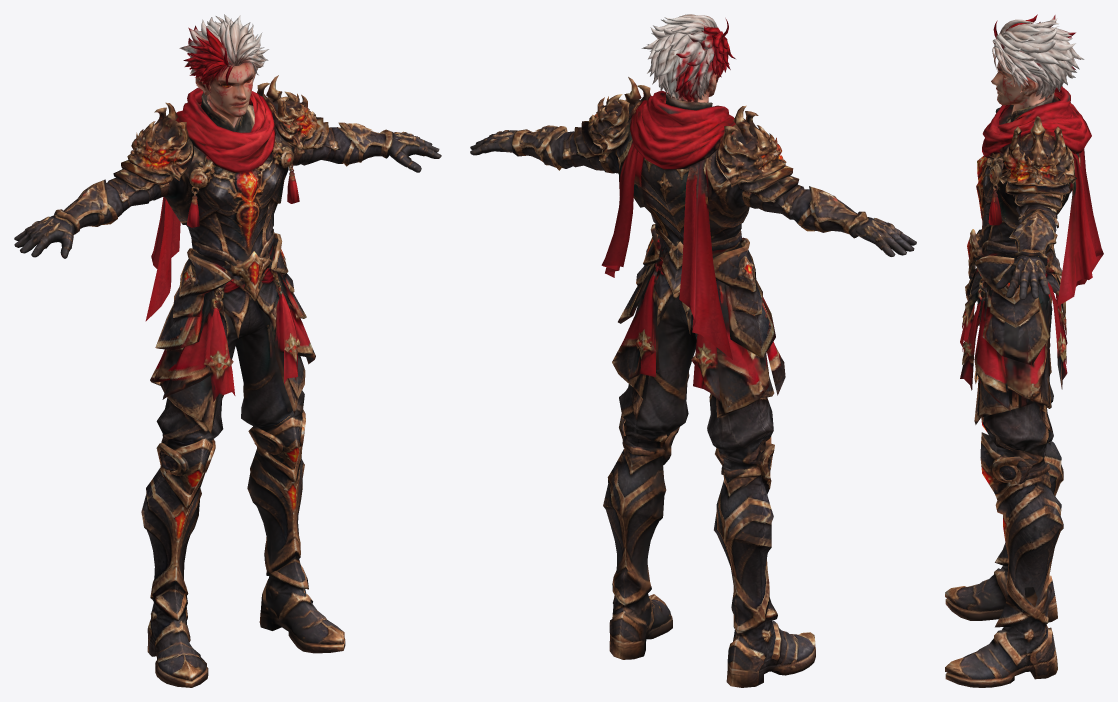
The model's file is nezha-rpg-face.glb.
3 views of the same model, side by side, from view 1: azimuth 30°, elevation 25°; view 2: azimuth 150°, elevation 25°; view 3: azimuth 270°, elevation 25° (orthographic). The views are drawn at different scales.
Parts seen in each view (by area): view 1: tripo_node_2d5cd48d-302c-4d2a-aa34-7521054f1c8c; view 2: tripo_node_2d5cd48d-302c-4d2a-aa34-7521054f1c8c; view 3: tripo_node_2d5cd48d-302c-4d2a-aa34-7521054f1c8c.
Part boxes in pixels (x1,y1,x2,y2): tripo_node_2d5cd48d-302c-4d2a-aa34-7521054f1c8c: (14, 14, 441, 687); tripo_node_2d5cd48d-302c-4d2a-aa34-7521054f1c8c: (470, 14, 916, 687); tripo_node_2d5cd48d-302c-4d2a-aa34-7521054f1c8c: (945, 14, 1103, 687).
Size of the model in its own units: 0.7075 by 0.9995 by 0.23.
Materials: 1 (1 with a texture image).
